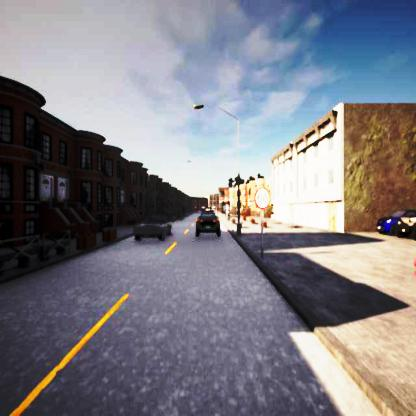vehicle: (377, 209, 415, 236), (134, 216, 170, 240), (195, 210, 218, 235)
